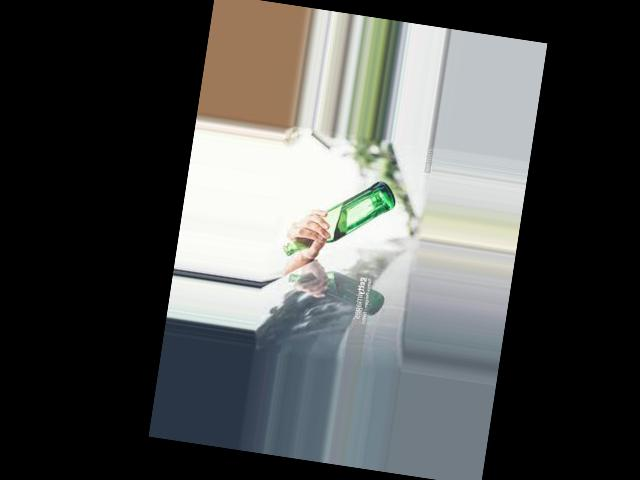beer: (282, 169, 399, 272)
